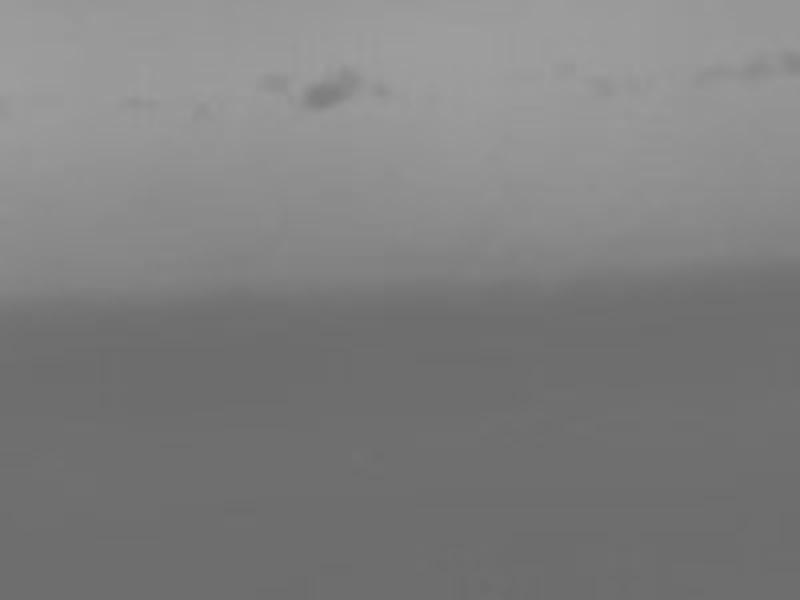defect: (301, 79, 349, 112), (737, 51, 771, 83), (256, 72, 287, 94), (698, 62, 733, 79), (334, 65, 358, 89), (780, 49, 800, 77), (590, 75, 614, 98), (123, 97, 160, 110), (370, 80, 390, 102), (191, 98, 212, 118)
